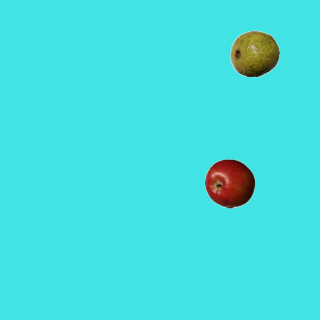Apple Braeburn: (204, 158, 254, 208)
Guava: (229, 28, 279, 78)
